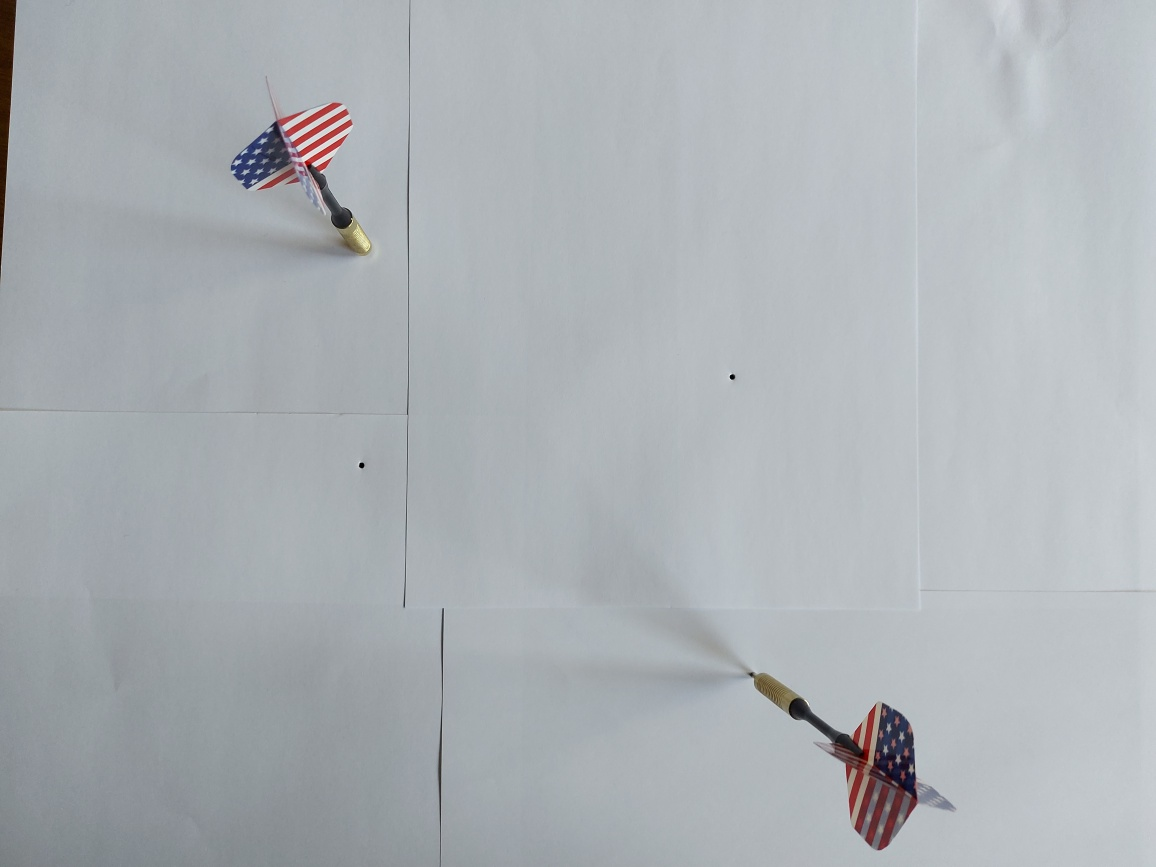Dart: (730, 636, 968, 859), (218, 62, 383, 270)
